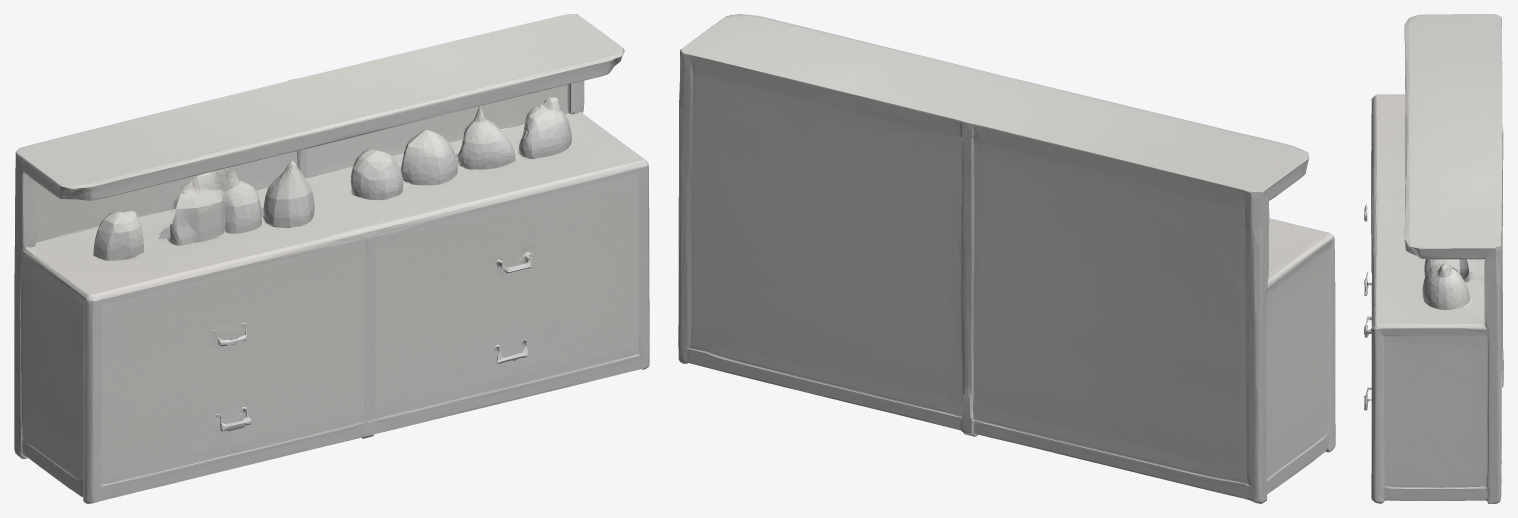
The model's file is banko.glb.
3 renders of one model, left to right at view 1: azimuth 30°, elevation 25°; view 2: azimuth 150°, elevation 25°; view 3: azimuth 270°, elevation 25°, orthographic. The views are drawn at different scales.
Bounding box in the file's own units: 100 × 51.79 × 25.31.
Materials: 1 (1 with a texture image).
